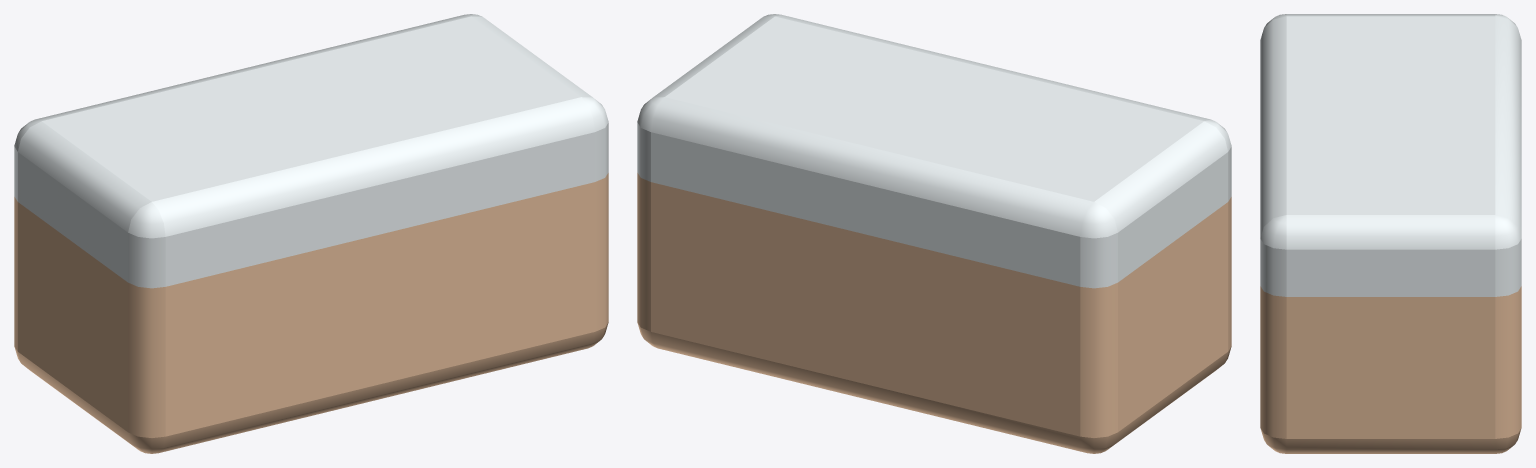
3 views of the same model, side by side, from view 1: azimuth 30°, elevation 25°; view 2: azimuth 150°, elevation 25°; view 3: azimuth 270°, elevation 25° (orthographic). The views are drawn at different scales.
Parts seen in each view (by area): view 1: blockSnowRoundedLong; view 2: blockSnowRoundedLong; view 3: blockSnowRoundedLong.
Boxes of the visible parts, <box> form: blockSnowRoundedLong: <box>14,14,608,453</box>; blockSnowRoundedLong: <box>637,14,1231,453</box>; blockSnowRoundedLong: <box>1260,14,1521,453</box>.
Bounding box in the file's own units: 2 × 1 × 1.
